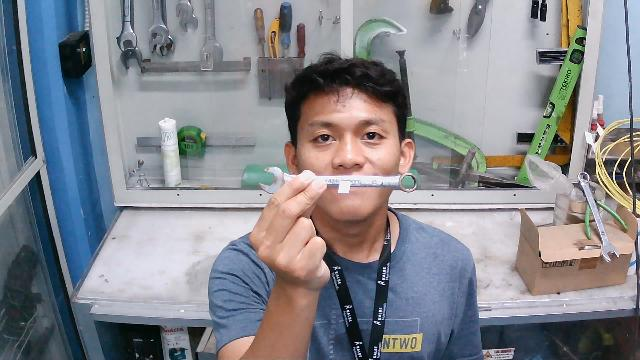kunci_pass_13: (255, 158, 425, 209)
